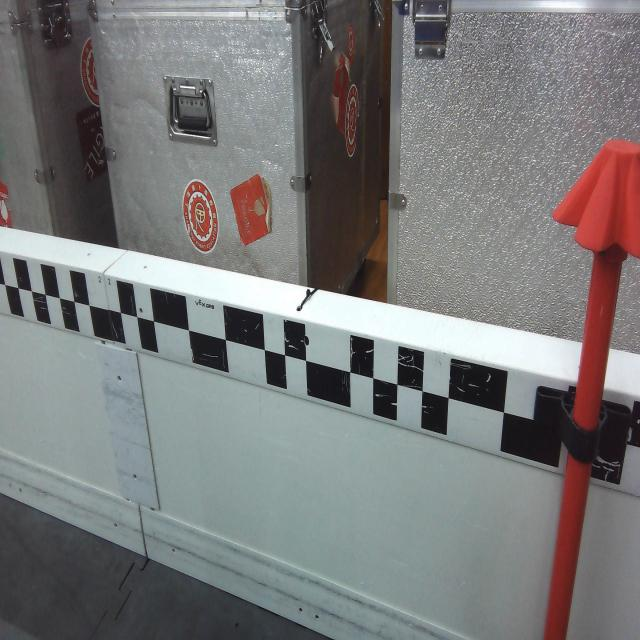zred-Stake-Head: (552, 140, 640, 258)
